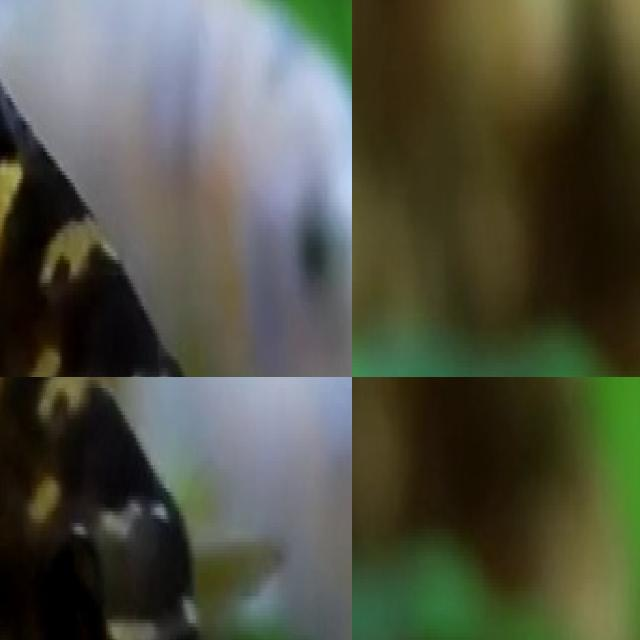fish: (0, 0, 352, 377), (59, 377, 352, 640)
